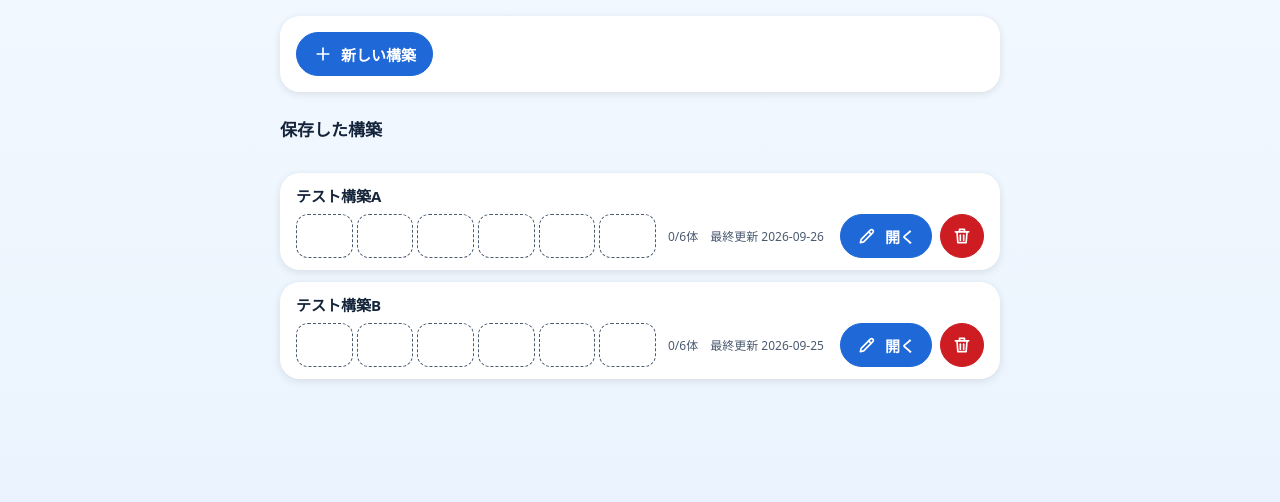
Test case: AC-5 削除(2段階。window.confirm は使わない) › 確定すると remove をその id で1回だけ呼び、成功したら行が消える(他の行は残る)
What coordinates should you click on to do the following:
click the button named "「テスト構築A」を削除"
I would click on:
 (962, 236)
Its box is x1=940 y1=214 x2=984 y2=258.
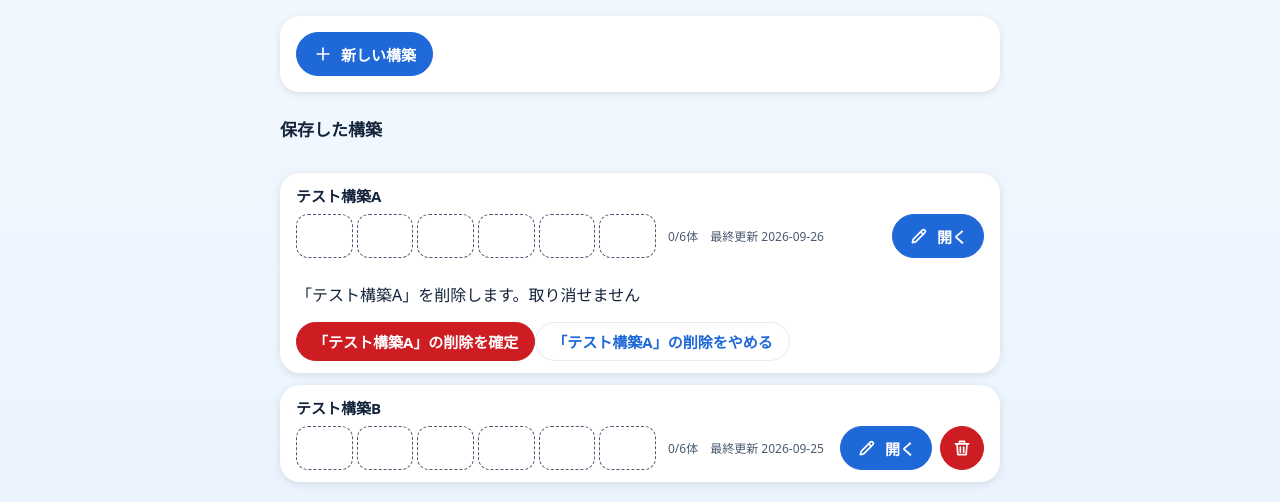
What coordinates should you click on to do the following:
click the button "「テスト構築A」の削除を確定"
I would click on:
 (416, 342)
Its box is x1=296 y1=322 x2=535 y2=361.
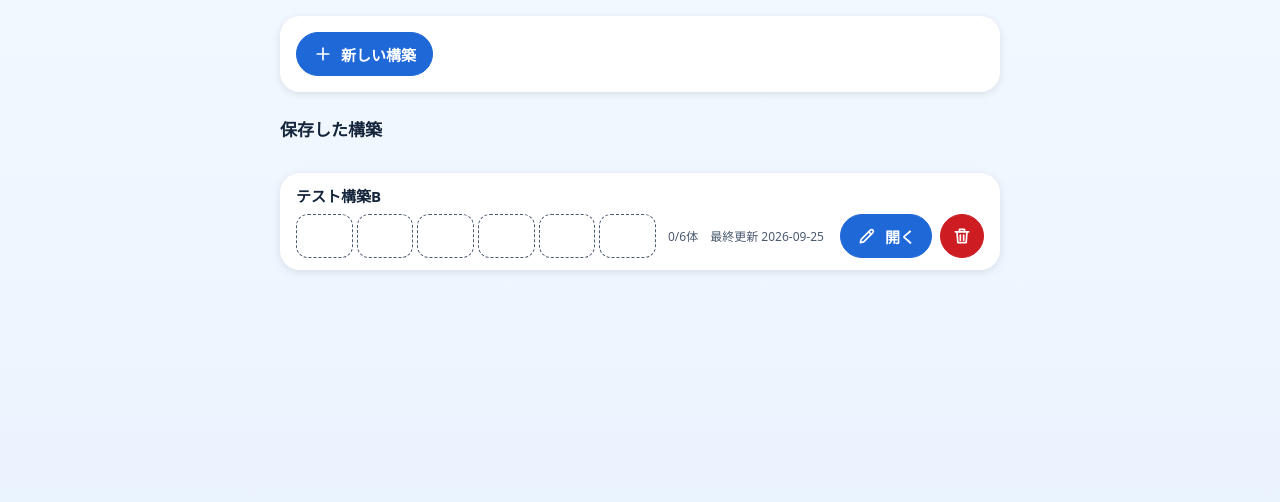
Expected: the list item shows "テスト構築B", x1=296 y1=186 x2=381 y2=206
Expected: the number of list items is 1, x1=280 y1=173 x2=1000 y2=270
